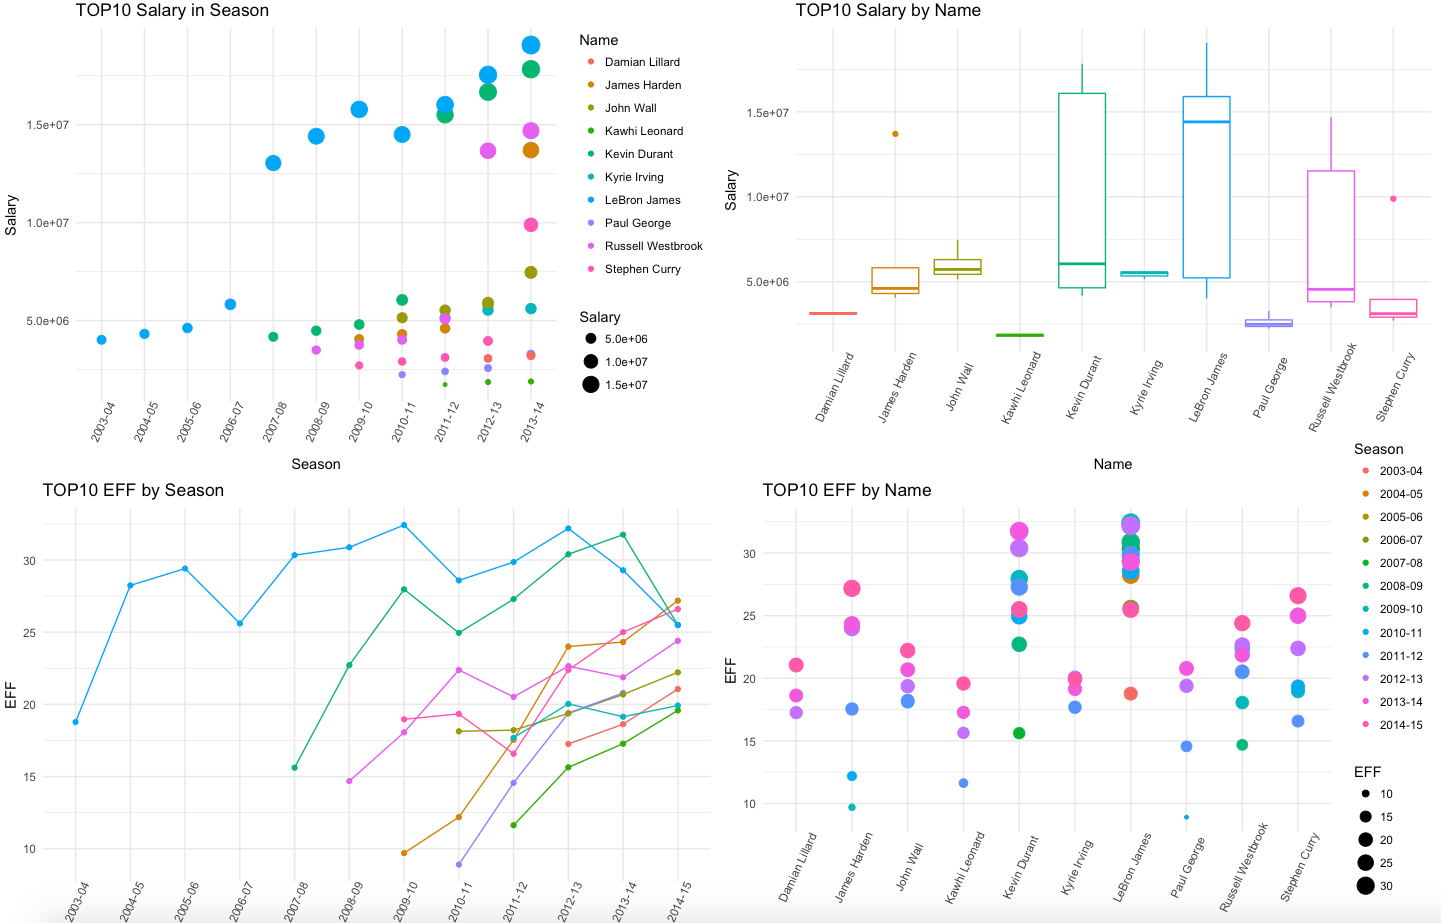

Layout of this report page (visuals, bound fields, positions):
{"tool":"tableau","page":{"name":"Dashboard 1","canvas":[1000,800],"ordinal":0},"visuals":[{"type":"worksheet","title":"Sheet 3)","mark":"Automatic","rows":["Number of Records"],"cols":["provstate"],"box":[0,0,365.9,800]},{"type":"legend","title":"Sheet 3)","param":"[federated.0k3zxak1oaesum1dcgc9w01v58vp].[none:targtype1_txt:nk]","box":[365.9,0,132.1,800]},{"type":"worksheet","title":"Sheet 1","mark":"Automatic","rows":["Number of Records"],"cols":["provstate"],"box":[498,0,365.9,800]},{"type":"legend","title":"Sheet 1","param":"[federated.0k3zxak1oaesum1dcgc9w01v58vp].[none:attacktype1_txt:nk]","box":[863.9,0,132.1,800]}]}

Visuals, with their boxes on the page's 1000x800 design canvas (x1, y1, x2, y2). These are canvas units, not pixel positions in the 1441x923 screenshot, which may show the page scaled, cropped or inside an application window:
"Sheet 3)" worksheet: l=0, t=0, r=366, b=800
"Sheet 3)" legend: l=366, t=0, r=498, b=800
"Sheet 1" worksheet: l=498, t=0, r=864, b=800
"Sheet 1" legend: l=864, t=0, r=996, b=800
